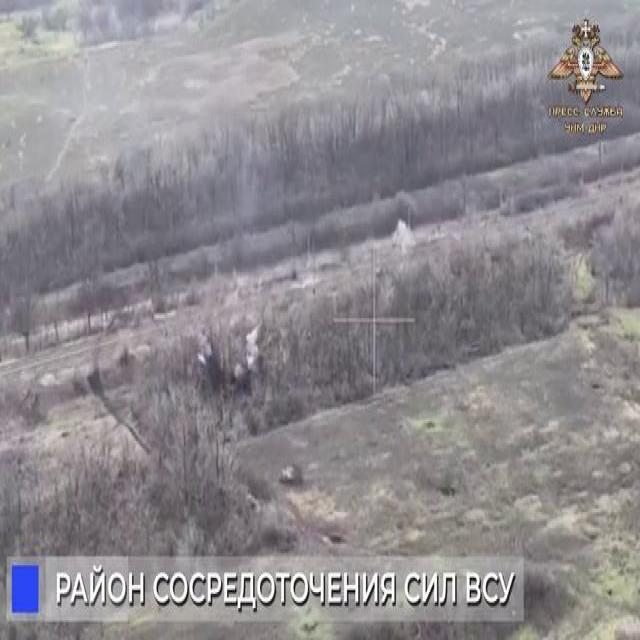cars: (279, 463, 303, 487)
